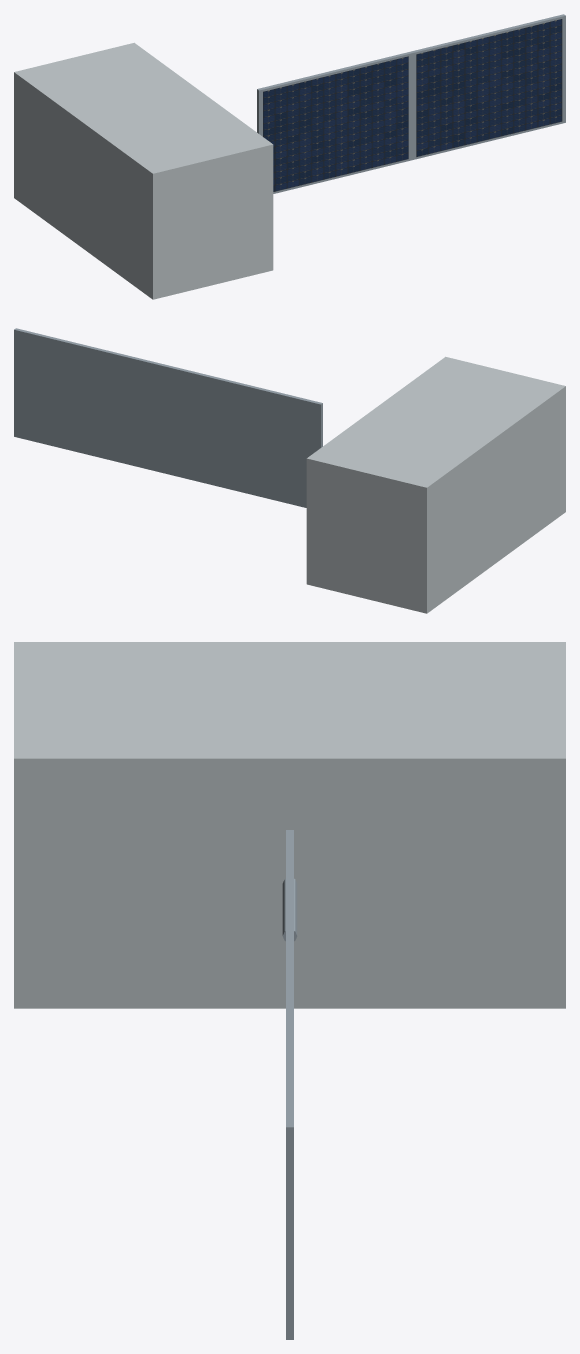
Rendered from ref-cx16-53586.glb.
The picture shows the model from 3 angles, top to bottom: view 1: azimuth 30°, elevation 25°; view 2: azimuth 150°, elevation 25°; view 3: azimuth 270°, elevation 25°; orthographic projection. The views are drawn at different scales.
Parts seen in each view (by area): view 1: Spacecraft body, Photovoltaic laminates (×2), Array frame (×2); view 2: Spacecraft body, Array frame (×2); view 3: Spacecraft body, Array frame (×2).
Boxes of the visible parts, bbox=[...] form: Spacecraft body: bbox=[14, 42, 273, 299]; Photovoltaic laminates (×2): bbox=[263, 19, 562, 191]; Array frame (×2): bbox=[257, 14, 565, 193]; Spacecraft body: bbox=[306, 356, 565, 613]; Array frame (×2): bbox=[14, 328, 322, 507]; Spacecraft body: bbox=[14, 642, 565, 1008]; Array frame (×2): bbox=[286, 830, 293, 1339].
Size of the model in its own units: 2 by 0.5 by 1.
3 materials, 1 textured.
